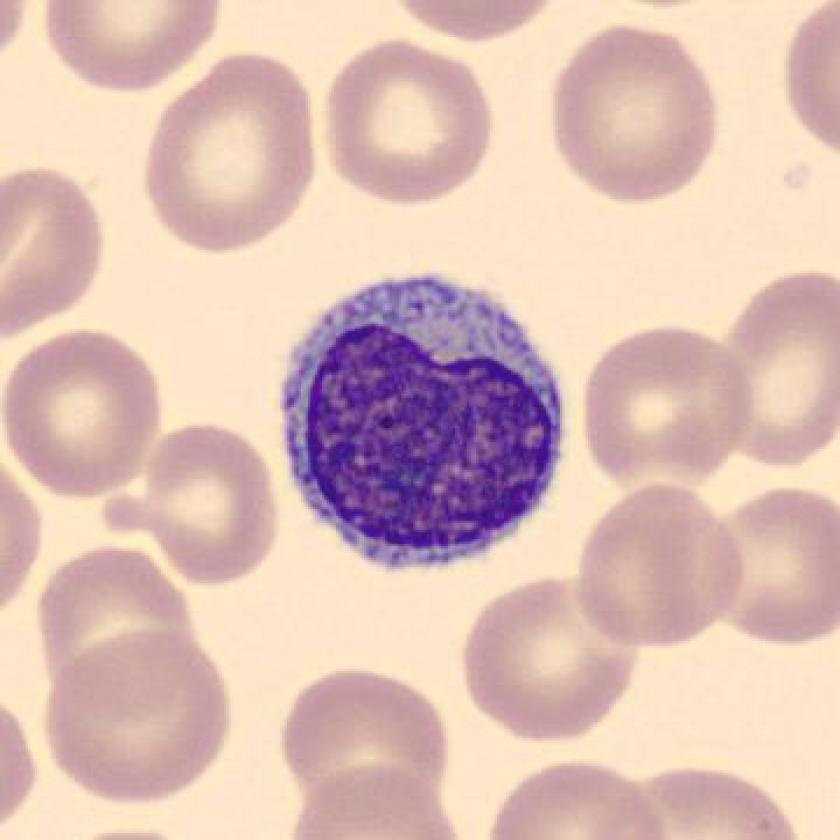lymphocyte: (262, 253, 587, 589)
